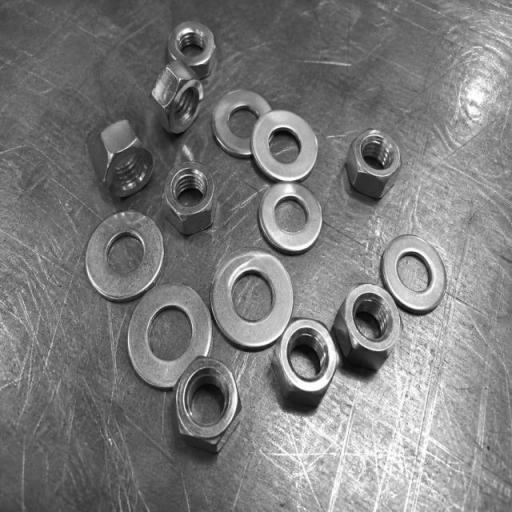Nut: (173, 357, 242, 454), (273, 317, 342, 410), (333, 283, 403, 374), (97, 118, 155, 201), (344, 127, 403, 201), (150, 61, 206, 135), (163, 163, 216, 238), (167, 21, 217, 84)
Washer: (125, 282, 213, 391), (209, 250, 296, 351), (83, 210, 166, 303), (379, 233, 448, 315), (251, 108, 320, 183), (257, 181, 324, 255), (211, 89, 273, 158)
